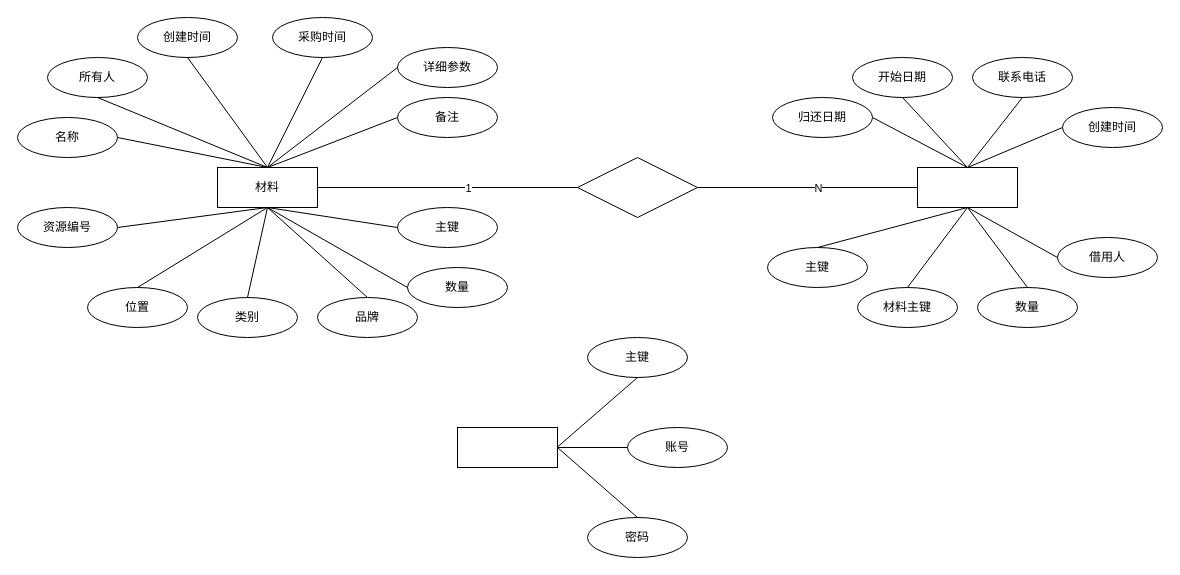
This 1180x575 diagram has some shape labels left out. The shapes that lost their labels are listed below. From the top down, each one's centre as x and y in pixels, then its label:
the point at 637,187: 借出
the point at 967,187: 租借
the point at 507,447: 管理员
